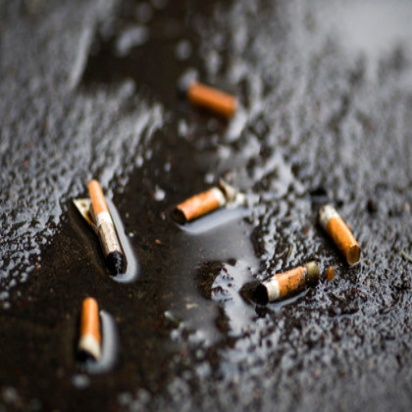cigarette: (72, 168, 132, 287), (250, 255, 329, 312), (310, 198, 366, 268), (72, 288, 108, 367), (184, 78, 240, 122), (174, 181, 224, 230)
